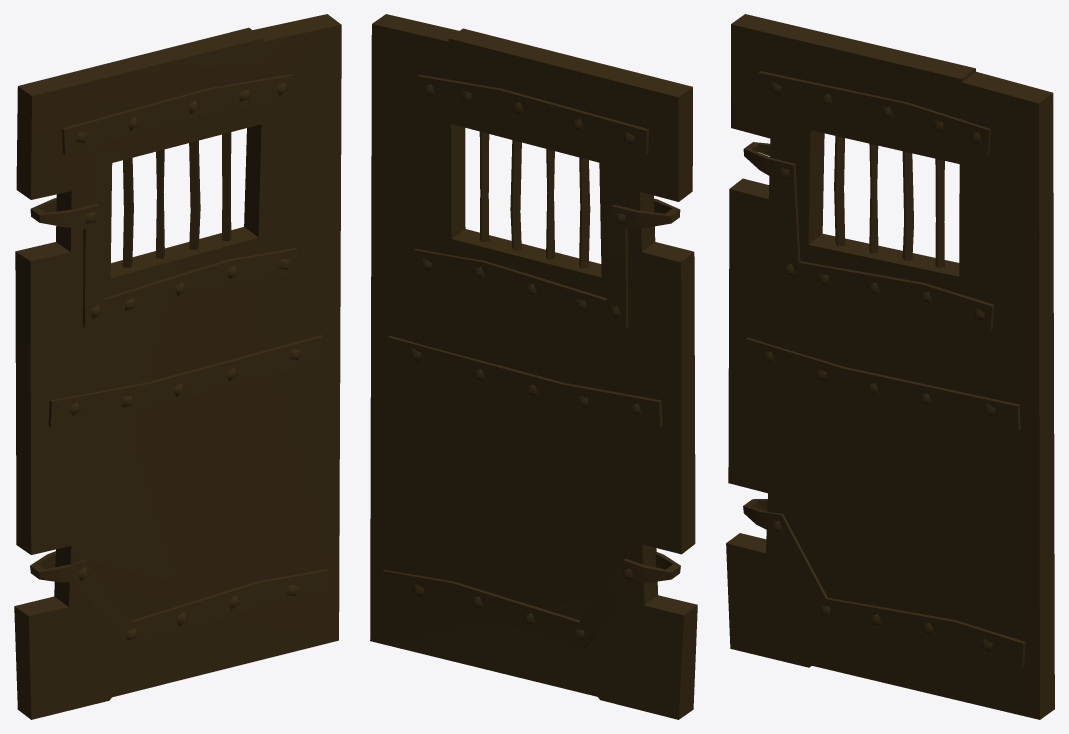
Rendered from door_wood_01_Mesh.FBX.
The picture shows the model from 3 angles, left to right: view 1: azimuth 30°, elevation 25°; view 2: azimuth 150°, elevation 25°; view 3: azimuth 330°, elevation 25°; orthographic projection.
Parts seen in each view (by area): view 1: door_wood_0102; view 2: door_wood_0102; view 3: door_wood_0102.
Boxes of the visible parts, x1,y1,x2,y2 form: door_wood_0102: (14, 14, 341, 719); door_wood_0102: (370, 14, 697, 719); door_wood_0102: (726, 14, 1054, 719).
Size of the model in its own units: 0.7907 by 1.51 by 0.1115.
